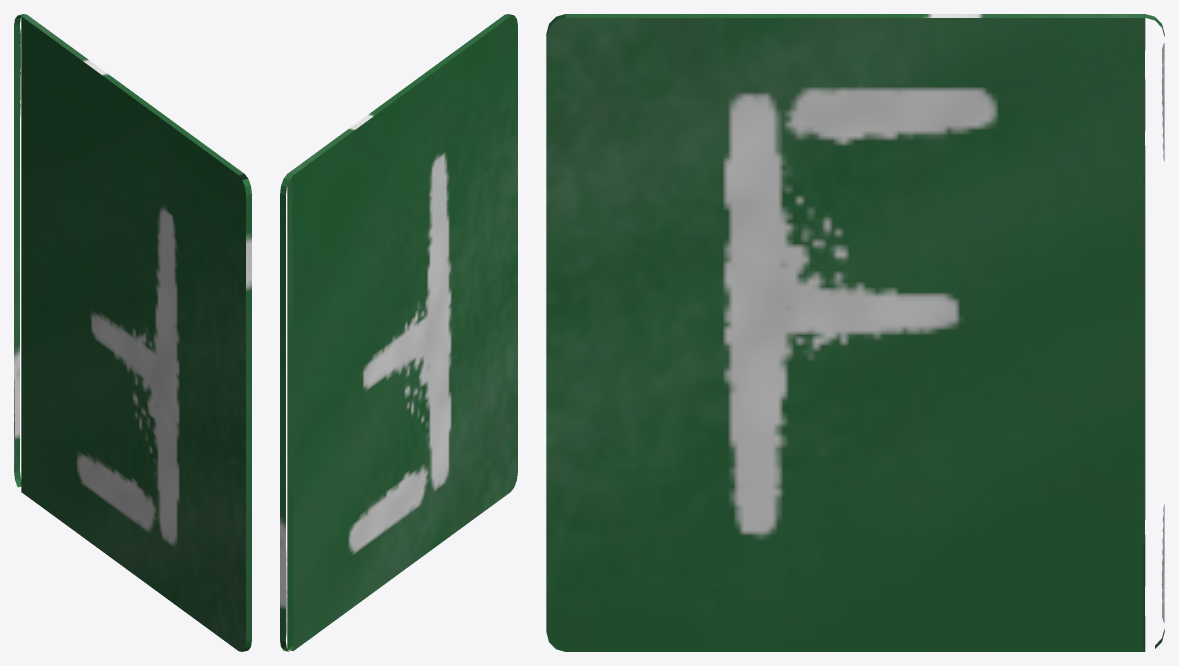
Rendered from DecalF.fbx.
The picture shows the model from 3 angles, left to right: view 1: azimuth 30°, elevation 25°; view 2: azimuth 150°, elevation 25°; view 3: azimuth 270°, elevation 25°; orthographic projection. The views are drawn at different scales.
Visible parts, largest first — view 1: DecalF; view 2: DecalF; view 3: DecalF.
Boxes of the visible parts, x1,y1,x2,y2 form: DecalF: (14, 14, 251, 651); DecalF: (280, 14, 517, 651); DecalF: (546, 14, 1164, 651).
Size of the model in its own units: 5.01e-05 by 0.00385 by 0.0034.
